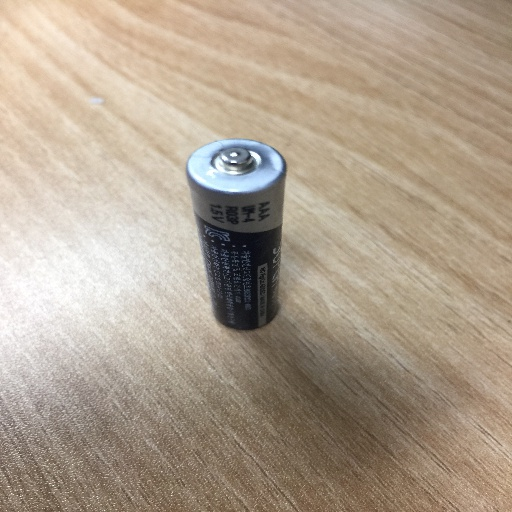Battery_0: (183, 124, 306, 354)
